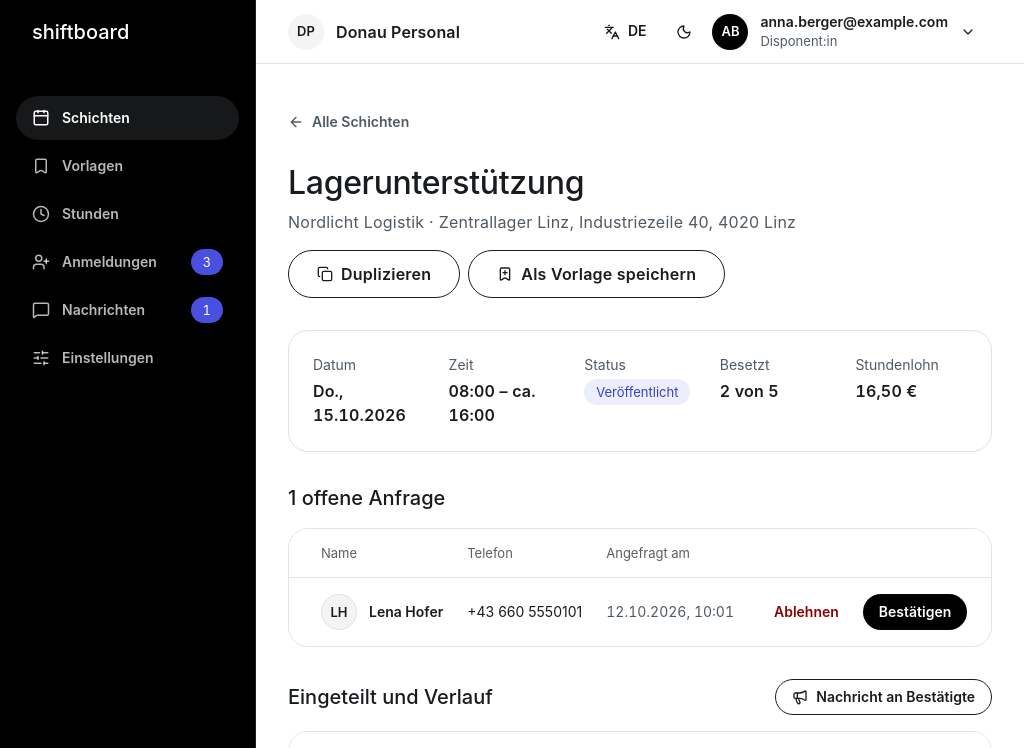
Test: shift detail › rejects a request and frees the spot
This screenshot has width=1024, height=748.
Click the button with aria-label "Lena Hofer ablehnen".
click(806, 612)  # box [758,594,855,630]
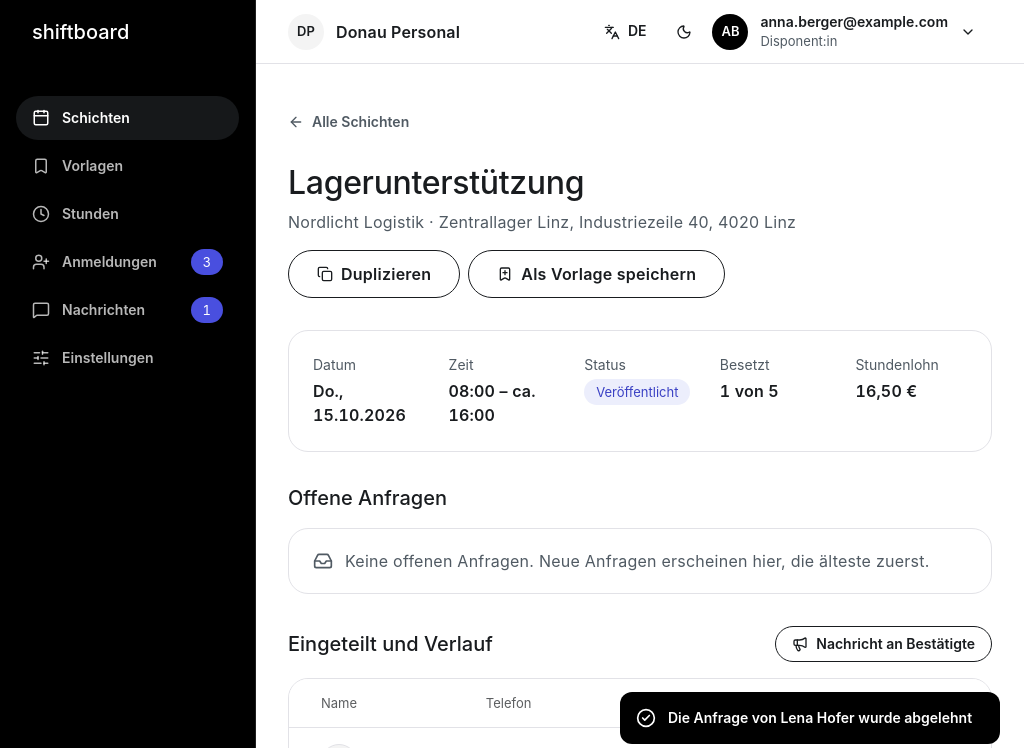
Expected: the text "Die Anfrage von Lena Hofer wurde abgelehnt" is shown, [668,708,972,728]
Expected: the text "1 von 5" is shown, [720,381,779,401]
